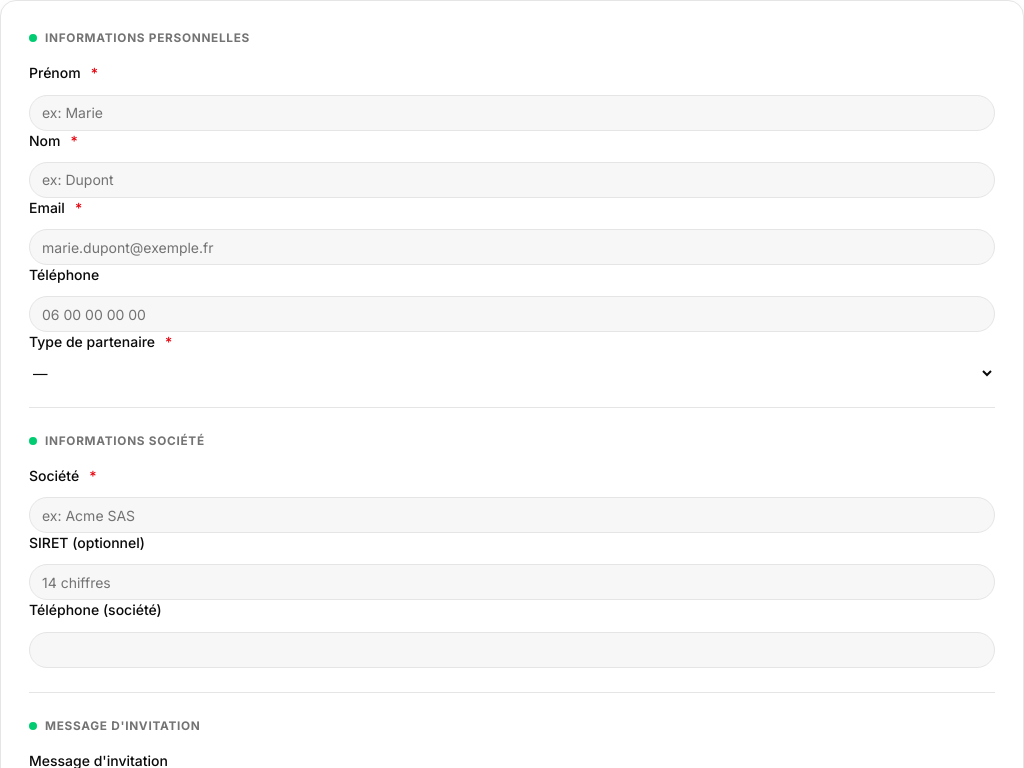
Test: CreatePartnerForm (D-07 + D-08 + UI-SPEC §5.1) › Test 11 (D-16): invalid email blur → aria-invalid + aria-describedby wired to the error
Step 1. Type "not-an-email" into the field labelled "Email *" → (512, 247), box [29, 229, 995, 265]
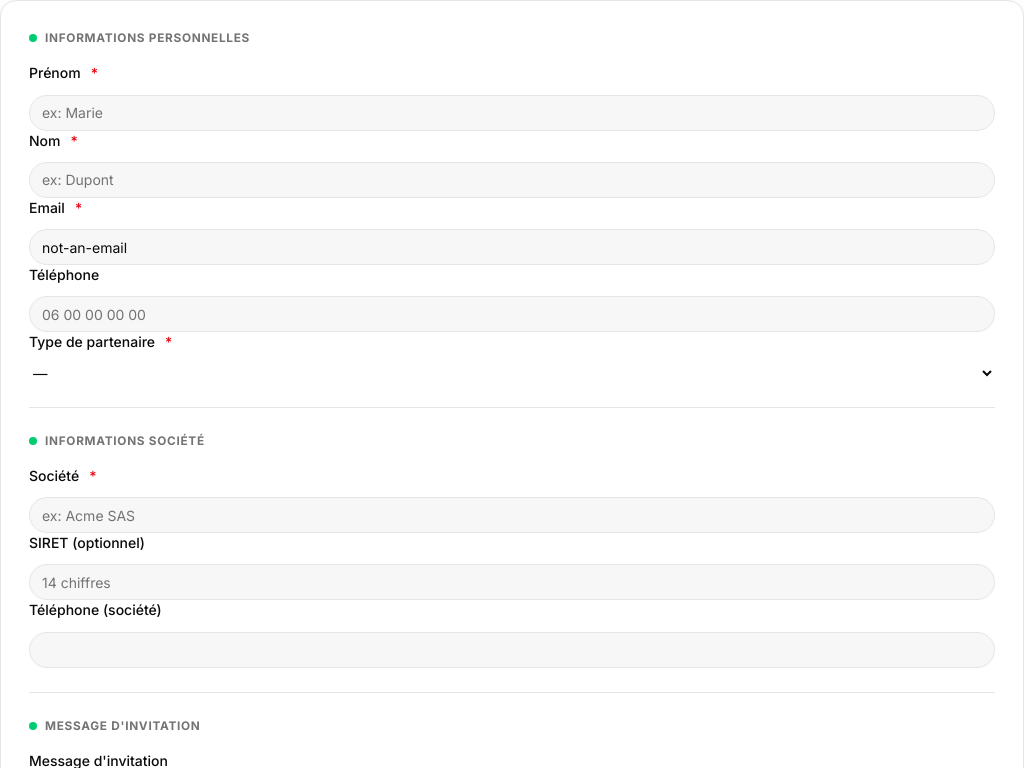
Step 2. Leave the field labelled "Email *", box [29, 229, 995, 265]
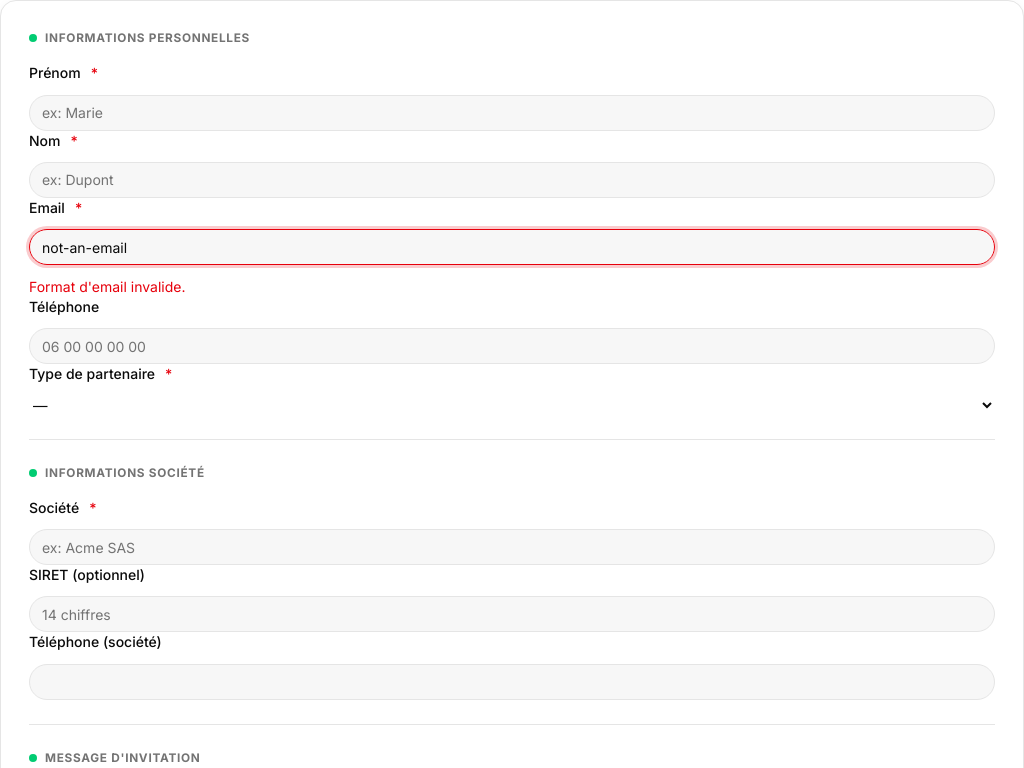
Expected: the message with id "cpf-email-error" shows "email", [29, 278, 186, 295]
